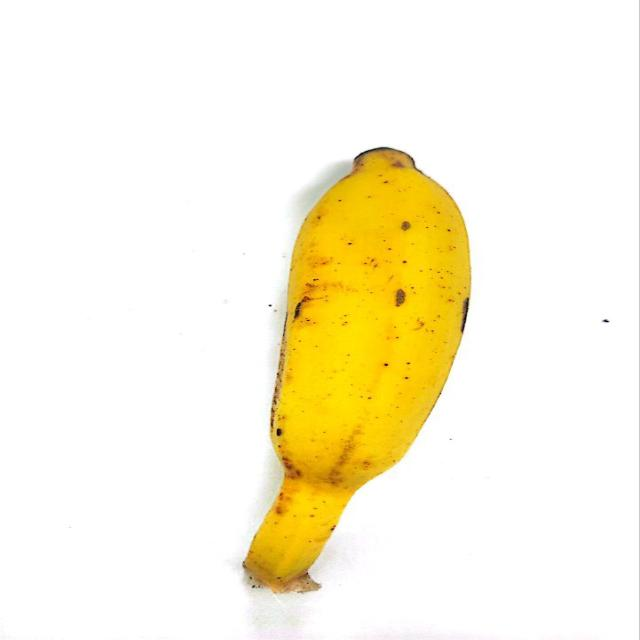fresh_banana: (231, 147, 471, 594)
